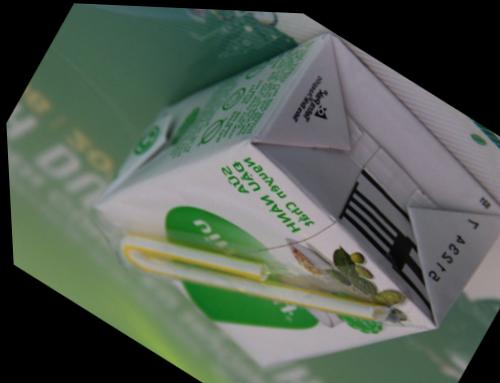cardboard: (41, 5, 499, 382)
